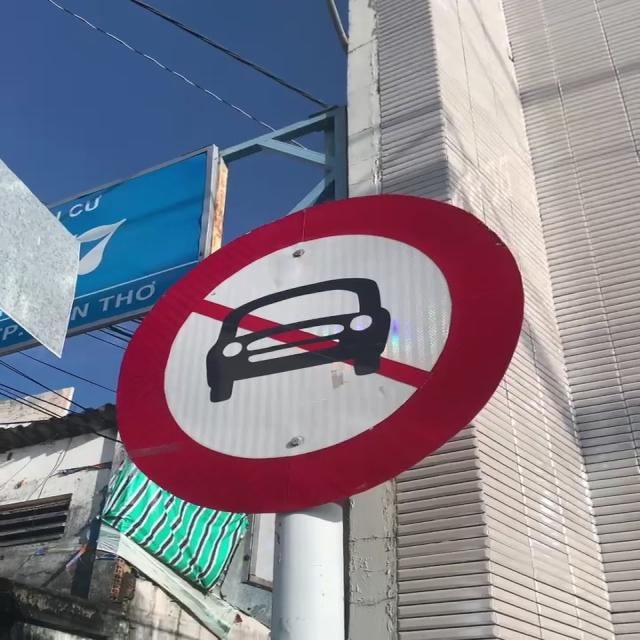Cam_O_To: (118, 191, 518, 516)
